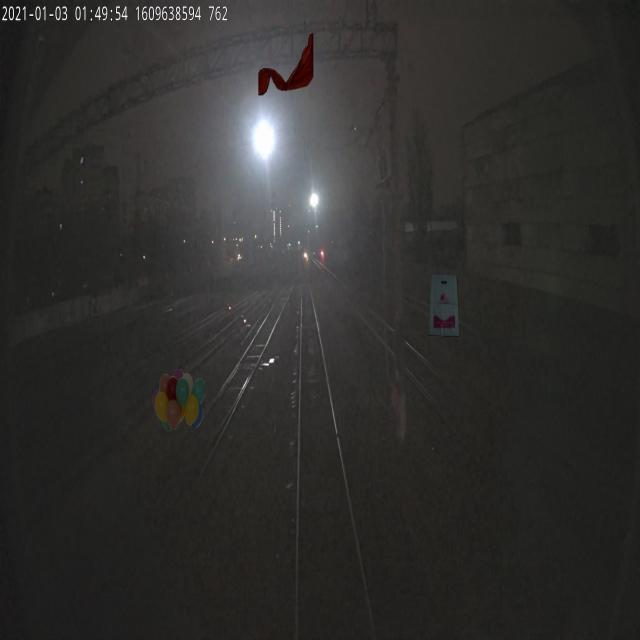balloon: (152, 368, 206, 432)
floating object: (258, 32, 313, 96)
plastic bag: (429, 274, 459, 338)
